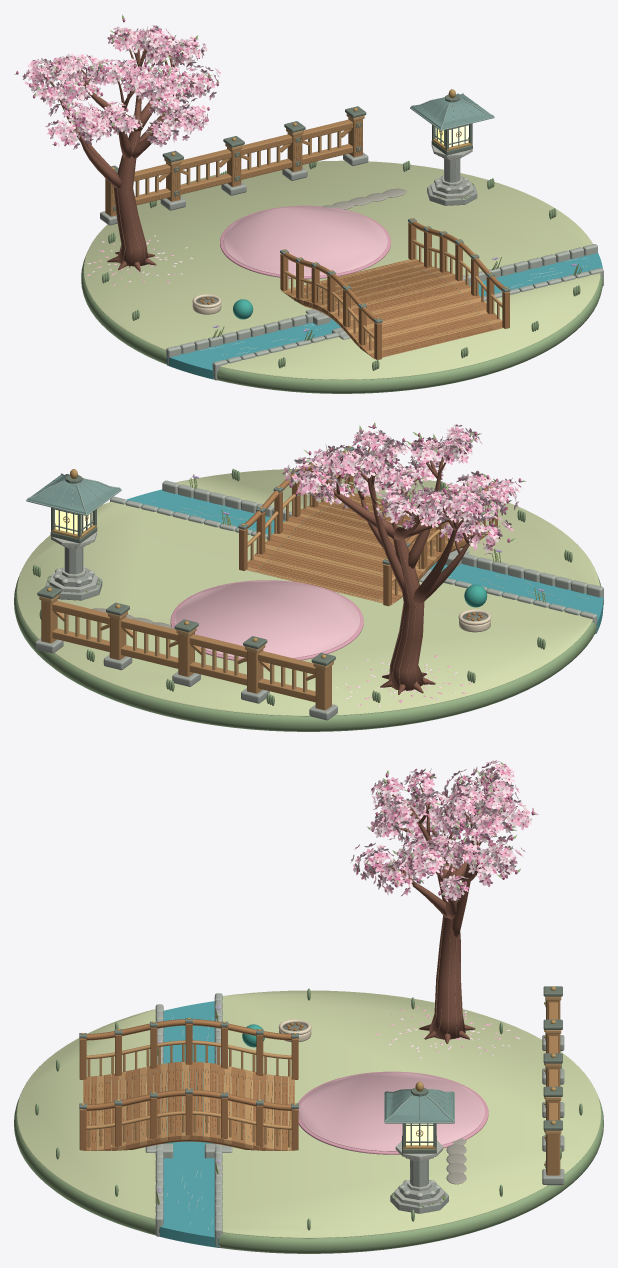
The model's file is sakura.glb.
3 views of the same model, one above another, from view 1: azimuth 30°, elevation 25°; view 2: azimuth 150°, elevation 25°; view 3: azimuth 270°, elevation 25° (orthographic). The views are drawn at different scales.
Visible parts, largest first — view 1: Sakura_S_grass.004, River_v1_Bridge_cedar.001, Sakura_S_rug.004, Sakura_v2_Petal_pearl, Sakura_S_edge.004, Sakura_v2_Petal_blush, Garden_v3_Honey_cedar.001, River_v1_Bridge_board_alternate.001, Sakura_v2_Bark_warm_umber, River_v1_River_jade_water.001, River_v1_River_bank_stone.001, River_v1_Bridge_grain.001 (+13 smaller); view 2: Sakura_S_grass.004, Sakura_S_edge.004, Sakura_S_rug.004, River_v1_Bridge_cedar.001, Garden_v3_Honey_cedar.001, Sakura_v2_Petal_pearl, Sakura_v2_Bark_warm_umber, Sakura_v2_Petal_blush, River_v1_Bridge_board_alternate.001, River_v1_River_bank_stone.001, River_v1_River_jade_water.001, Garden_v3_Warm_grey_granite.001 (+15 smaller); view 3: Sakura_S_grass.004, River_v1_Bridge_cedar.001, Sakura_S_edge.004, Sakura_v2_Petal_pearl, Sakura_S_rug.004, Sakura_v2_Petal_blush, River_v1_Bridge_board_alternate.001, River_v1_River_jade_water.001, Sakura_v2_Bark_warm_umber, River_v1_River_bank_stone.001, Sakura_v2_Petal_rose, Garden_v3_Warm_grey_granite.001 (+12 smaller).
Boxes of the visible parts, x1=… form: Sakura_S_grass.004: x1=83, y1=160, x2=600, y2=379; River_v1_Bridge_cedar.001: x1=280, y1=221, x2=509, y2=359; Sakura_S_rug.004: x1=223, y1=206, x2=387, y2=276; Sakura_v2_Petal_pearl: x1=23, y1=25, x2=219, y2=282; Sakura_S_edge.004: x1=81, y1=160, x2=602, y2=393; Sakura_v2_Petal_blush: x1=22, y1=25, x2=220, y2=286; Garden_v3_Honey_cedar.001: x1=105, y1=117, x2=362, y2=216; River_v1_Bridge_board_alternate.001: x1=281, y1=239, x2=502, y2=354; Sakura_v2_Bark_warm_umber: x1=40, y1=26, x2=208, y2=271; River_v1_River_jade_water.001: x1=167, y1=253, x2=602, y2=379; River_v1_River_bank_stone.001: x1=166, y1=244, x2=603, y2=380; River_v1_Bridge_grain.001: x1=304, y1=262, x2=493, y2=354; Sakura_S_grass.004: x1=16, y1=469, x2=599, y2=716; Sakura_S_edge.004: x1=14, y1=468, x2=601, y2=731; Sakura_S_rug.004: x1=174, y1=581, x2=360, y2=658; River_v1_Bridge_cedar.001: x1=239, y1=449, x2=497, y2=606; Garden_v3_Honey_cedar.001: x1=41, y1=599, x2=331, y2=710; Sakura_v2_Petal_pearl: x1=285, y1=427, x2=520, y2=706; Sakura_v2_Bark_warm_umber: x1=303, y1=426, x2=512, y2=694; Sakura_v2_Petal_blush: x1=282, y1=424, x2=521, y2=705; River_v1_Bridge_board_alternate.001: x1=246, y1=474, x2=491, y2=605; River_v1_River_bank_stone.001: x1=110, y1=480, x2=603, y2=633; River_v1_River_jade_water.001: x1=126, y1=489, x2=603, y2=633; Garden_v3_Warm_grey_granite.001: x1=35, y1=547, x2=337, y2=720; Sakura_S_grass.004: x1=16, y1=990, x2=601, y2=1238; River_v1_Bridge_cedar.001: x1=79, y1=1019, x2=298, y2=1150; Sakura_S_edge.004: x1=14, y1=988, x2=603, y2=1253; Sakura_v2_Petal_pearl: x1=351, y1=760, x2=536, y2=1061; Sakura_S_rug.004: x1=299, y1=1072, x2=484, y2=1151; Sakura_v2_Petal_blush: x1=351, y1=761, x2=537, y2=1051; River_v1_Bridge_board_alternate.001: x1=86, y1=1040, x2=294, y2=1150; River_v1_River_jade_water.001: x1=159, y1=1001, x2=218, y2=1247; Sakura_v2_Bark_warm_umber: x1=375, y1=767, x2=522, y2=1043; River_v1_River_bank_stone.001: x1=145, y1=993, x2=232, y2=1247; Sakura_v2_Petal_rose: x1=356, y1=761, x2=534, y2=899; Garden_v3_Warm_grey_granite.001: x1=390, y1=1035, x2=564, y2=1213.
Size of the model in its own units: 6.65 by 3.23 by 6.4.
